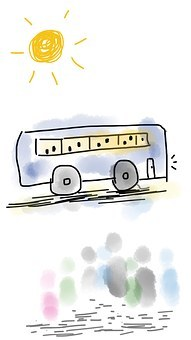bus: (10, 118, 171, 196)
